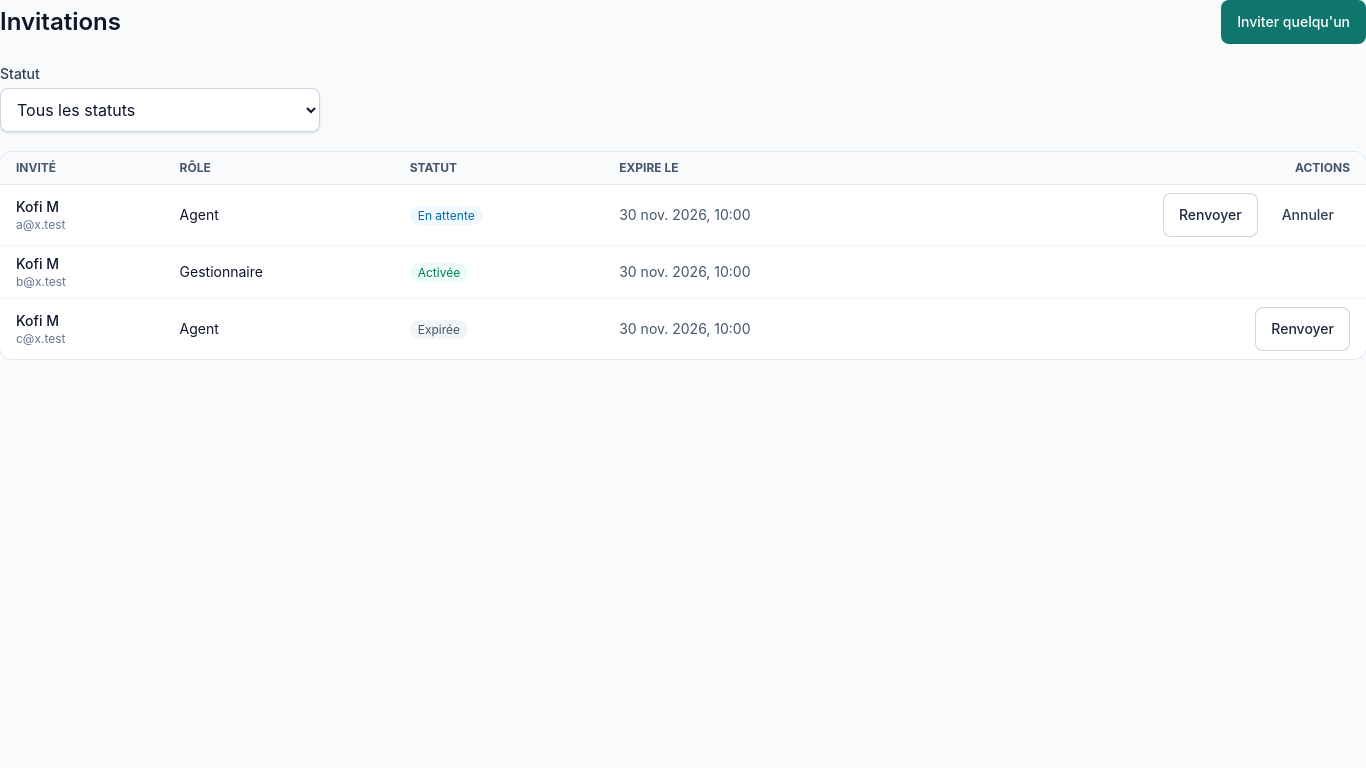
Test: page Invitations (admin) › crée une invitation et affiche l'erreur du serveur si l'e-mail existe déjà
Click the button "Inviter quelqu'un" at (1294, 22), box [1221,0,1365,44]
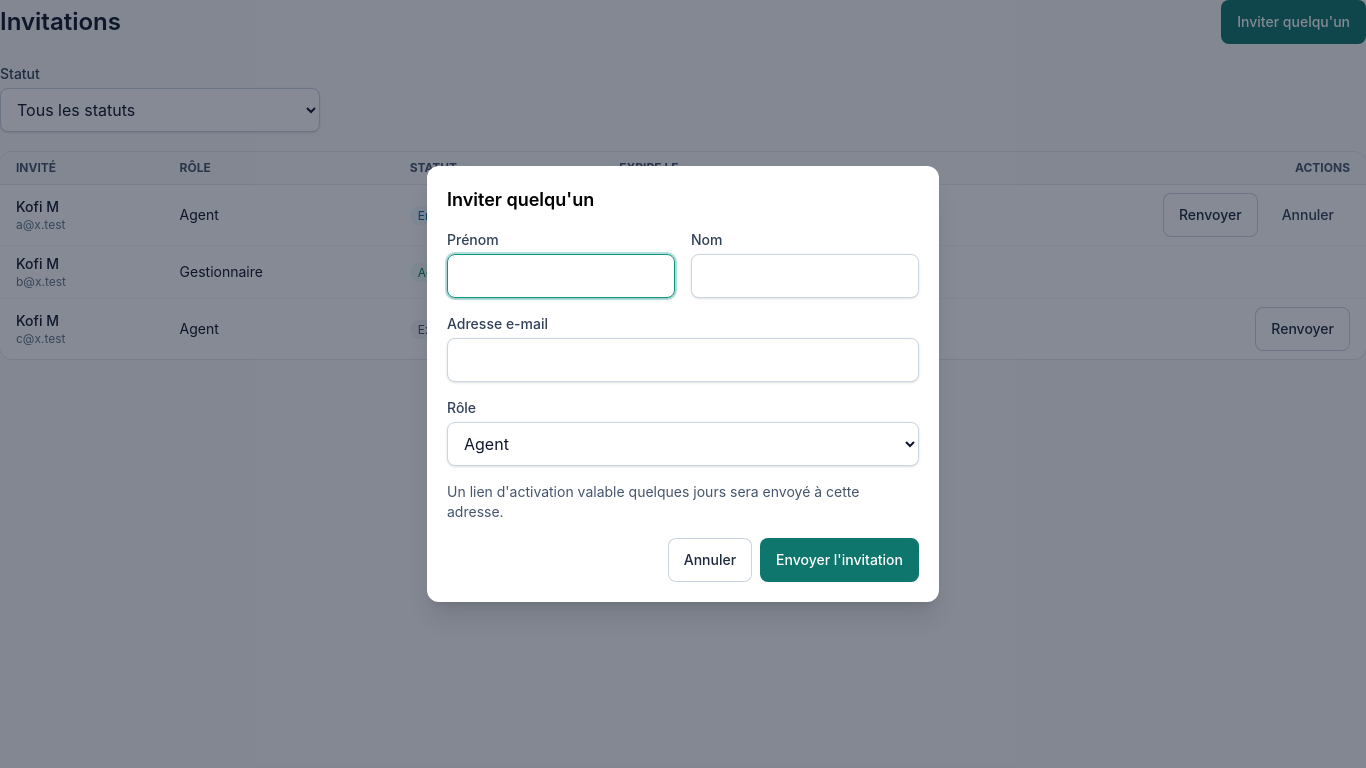
Type "Nina" into the field labelled "Prénom" at (561, 276), box [447,254,675,298]
Type "Z" into the field labelled "Nom" at (805, 276), box [691,254,919,298]
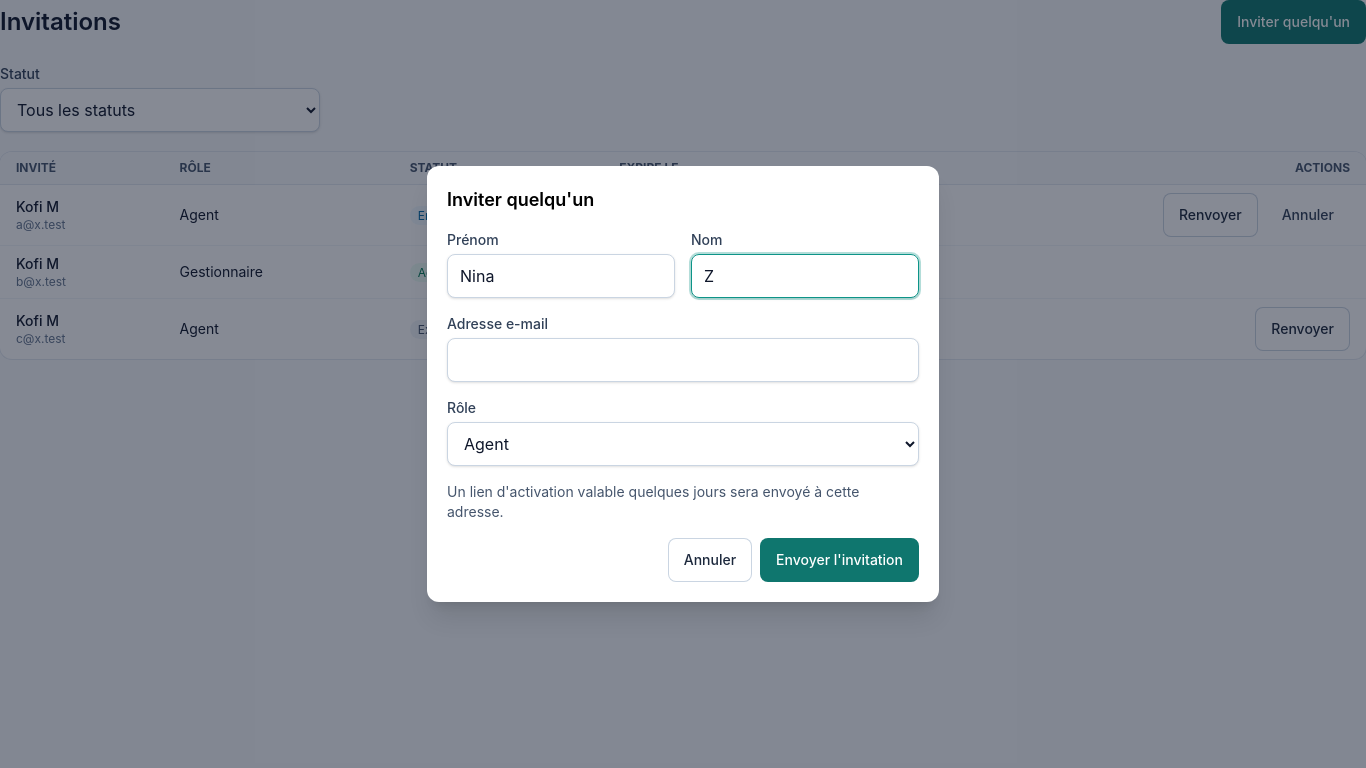
Type "n@x.test" into the field labelled "Adresse e-mail" at (683, 360), box [447,338,919,382]
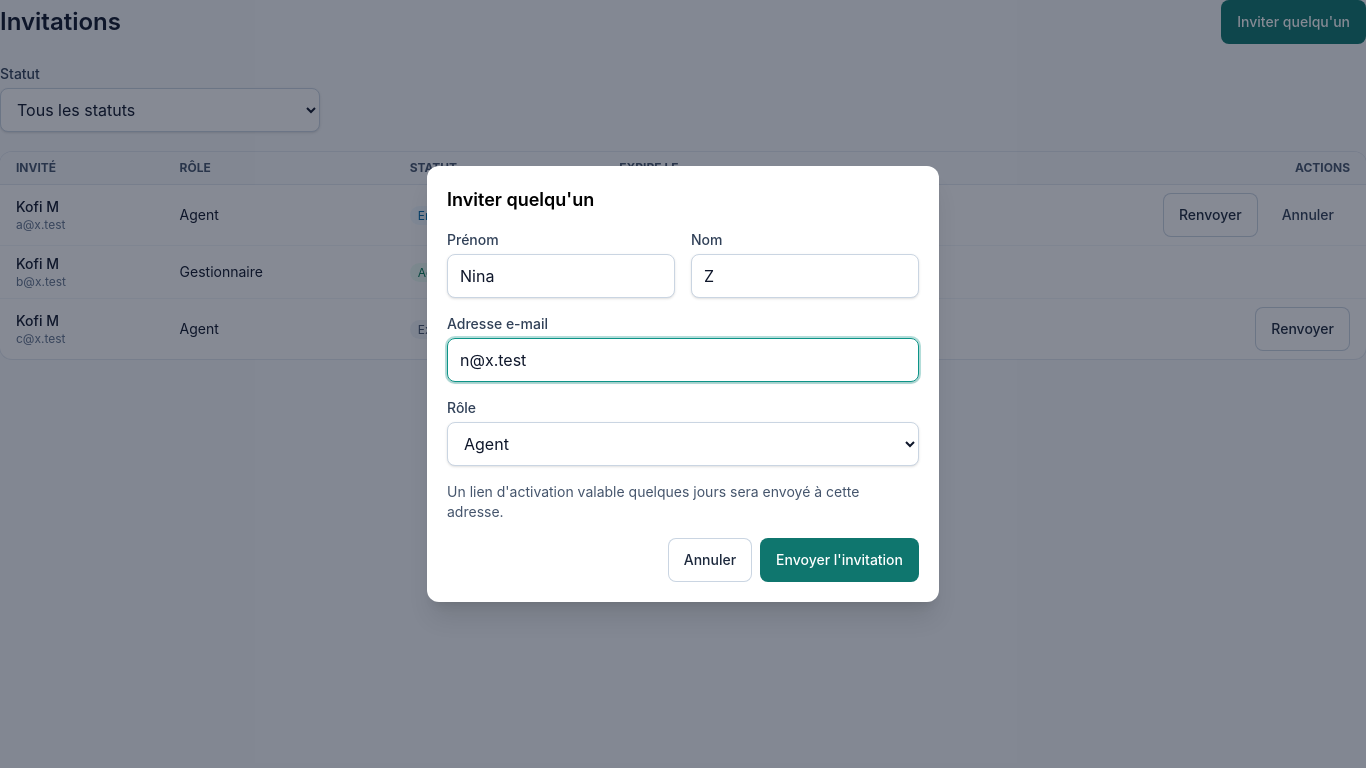
Select "Gestionnaire" in the dropdown labelled "Rôle" at (683, 444), box [447,422,919,466]
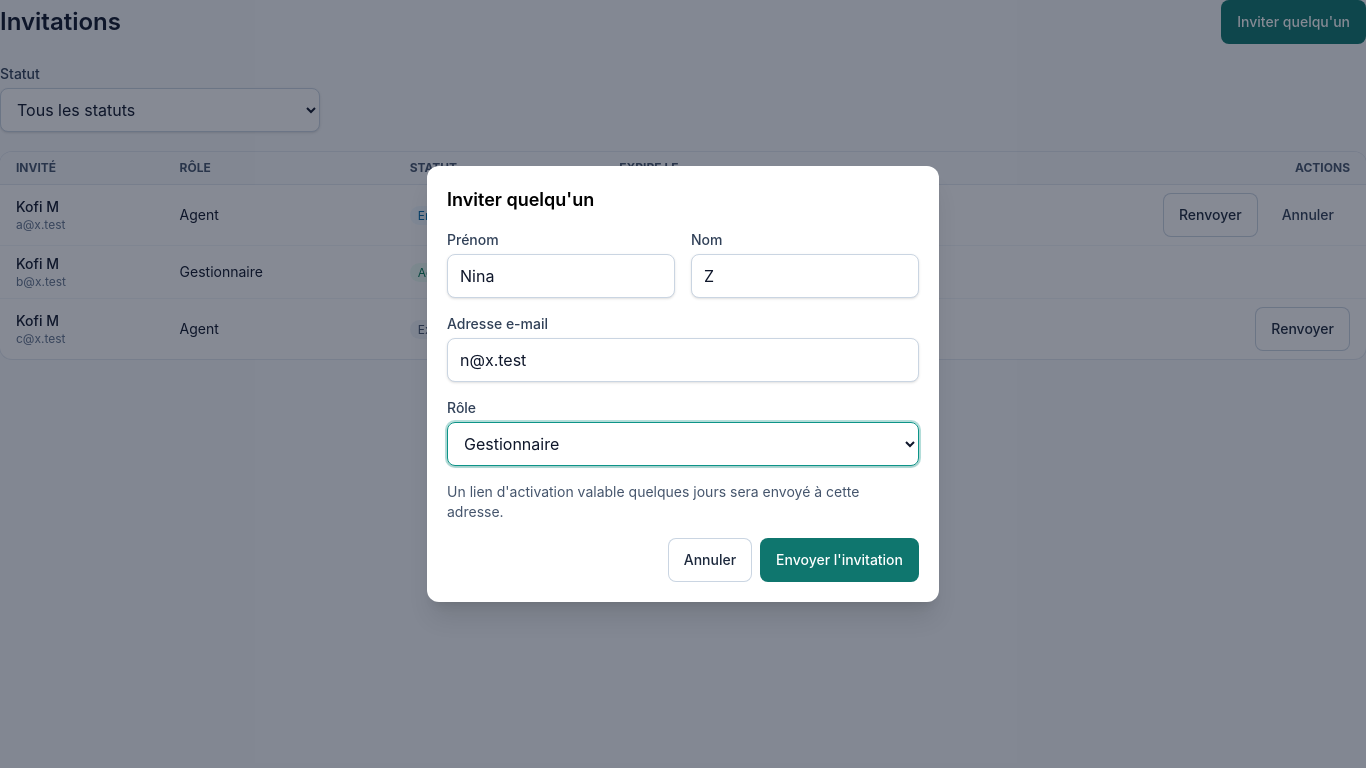
Click the button "Envoyer l'invitation" at (840, 560), box [760,538,919,582]
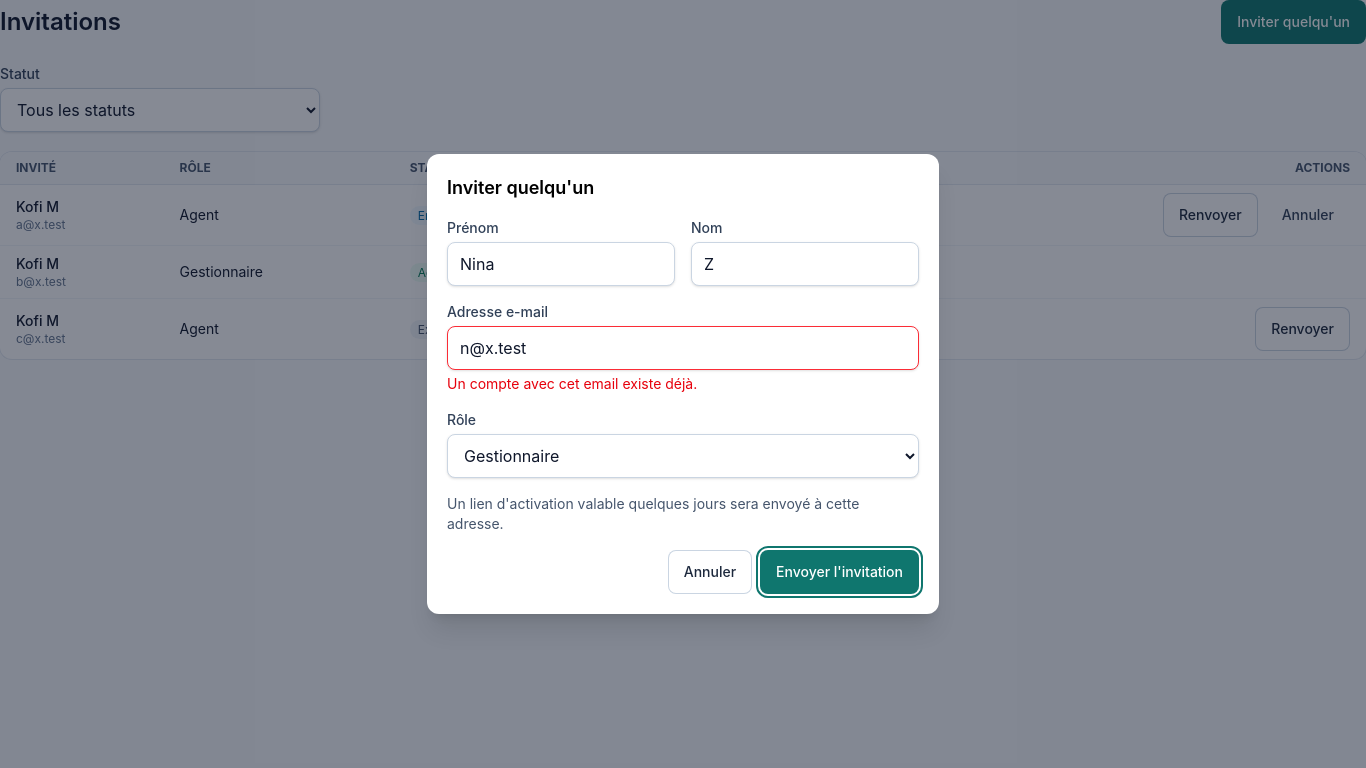
Expected: the text "Un compte avec cet email existe déjà." is shown, [447,375,697,392]
Click the button "Envoyer l'invitation" at (840, 572), box [760,550,919,594]
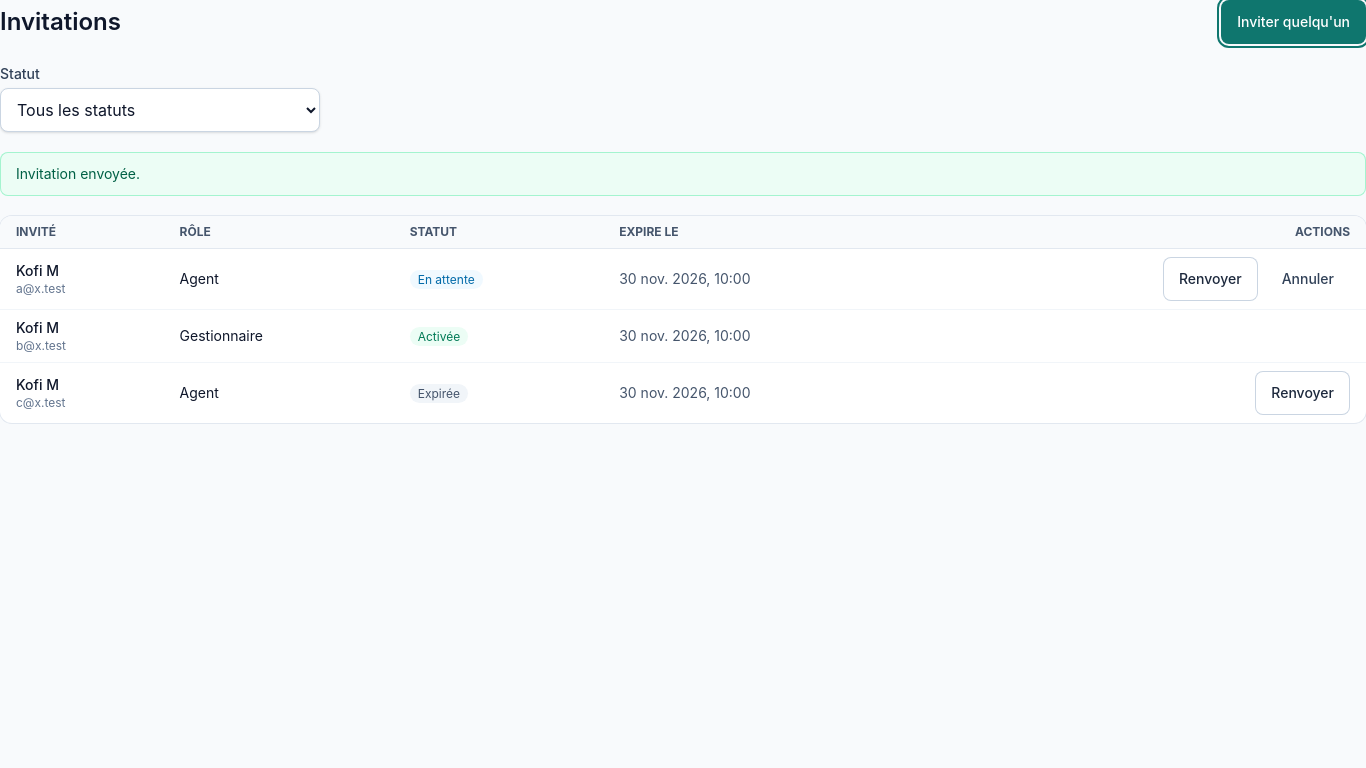
Expected: the text "Invitation envoyée." is shown, [0,152,1365,196]
